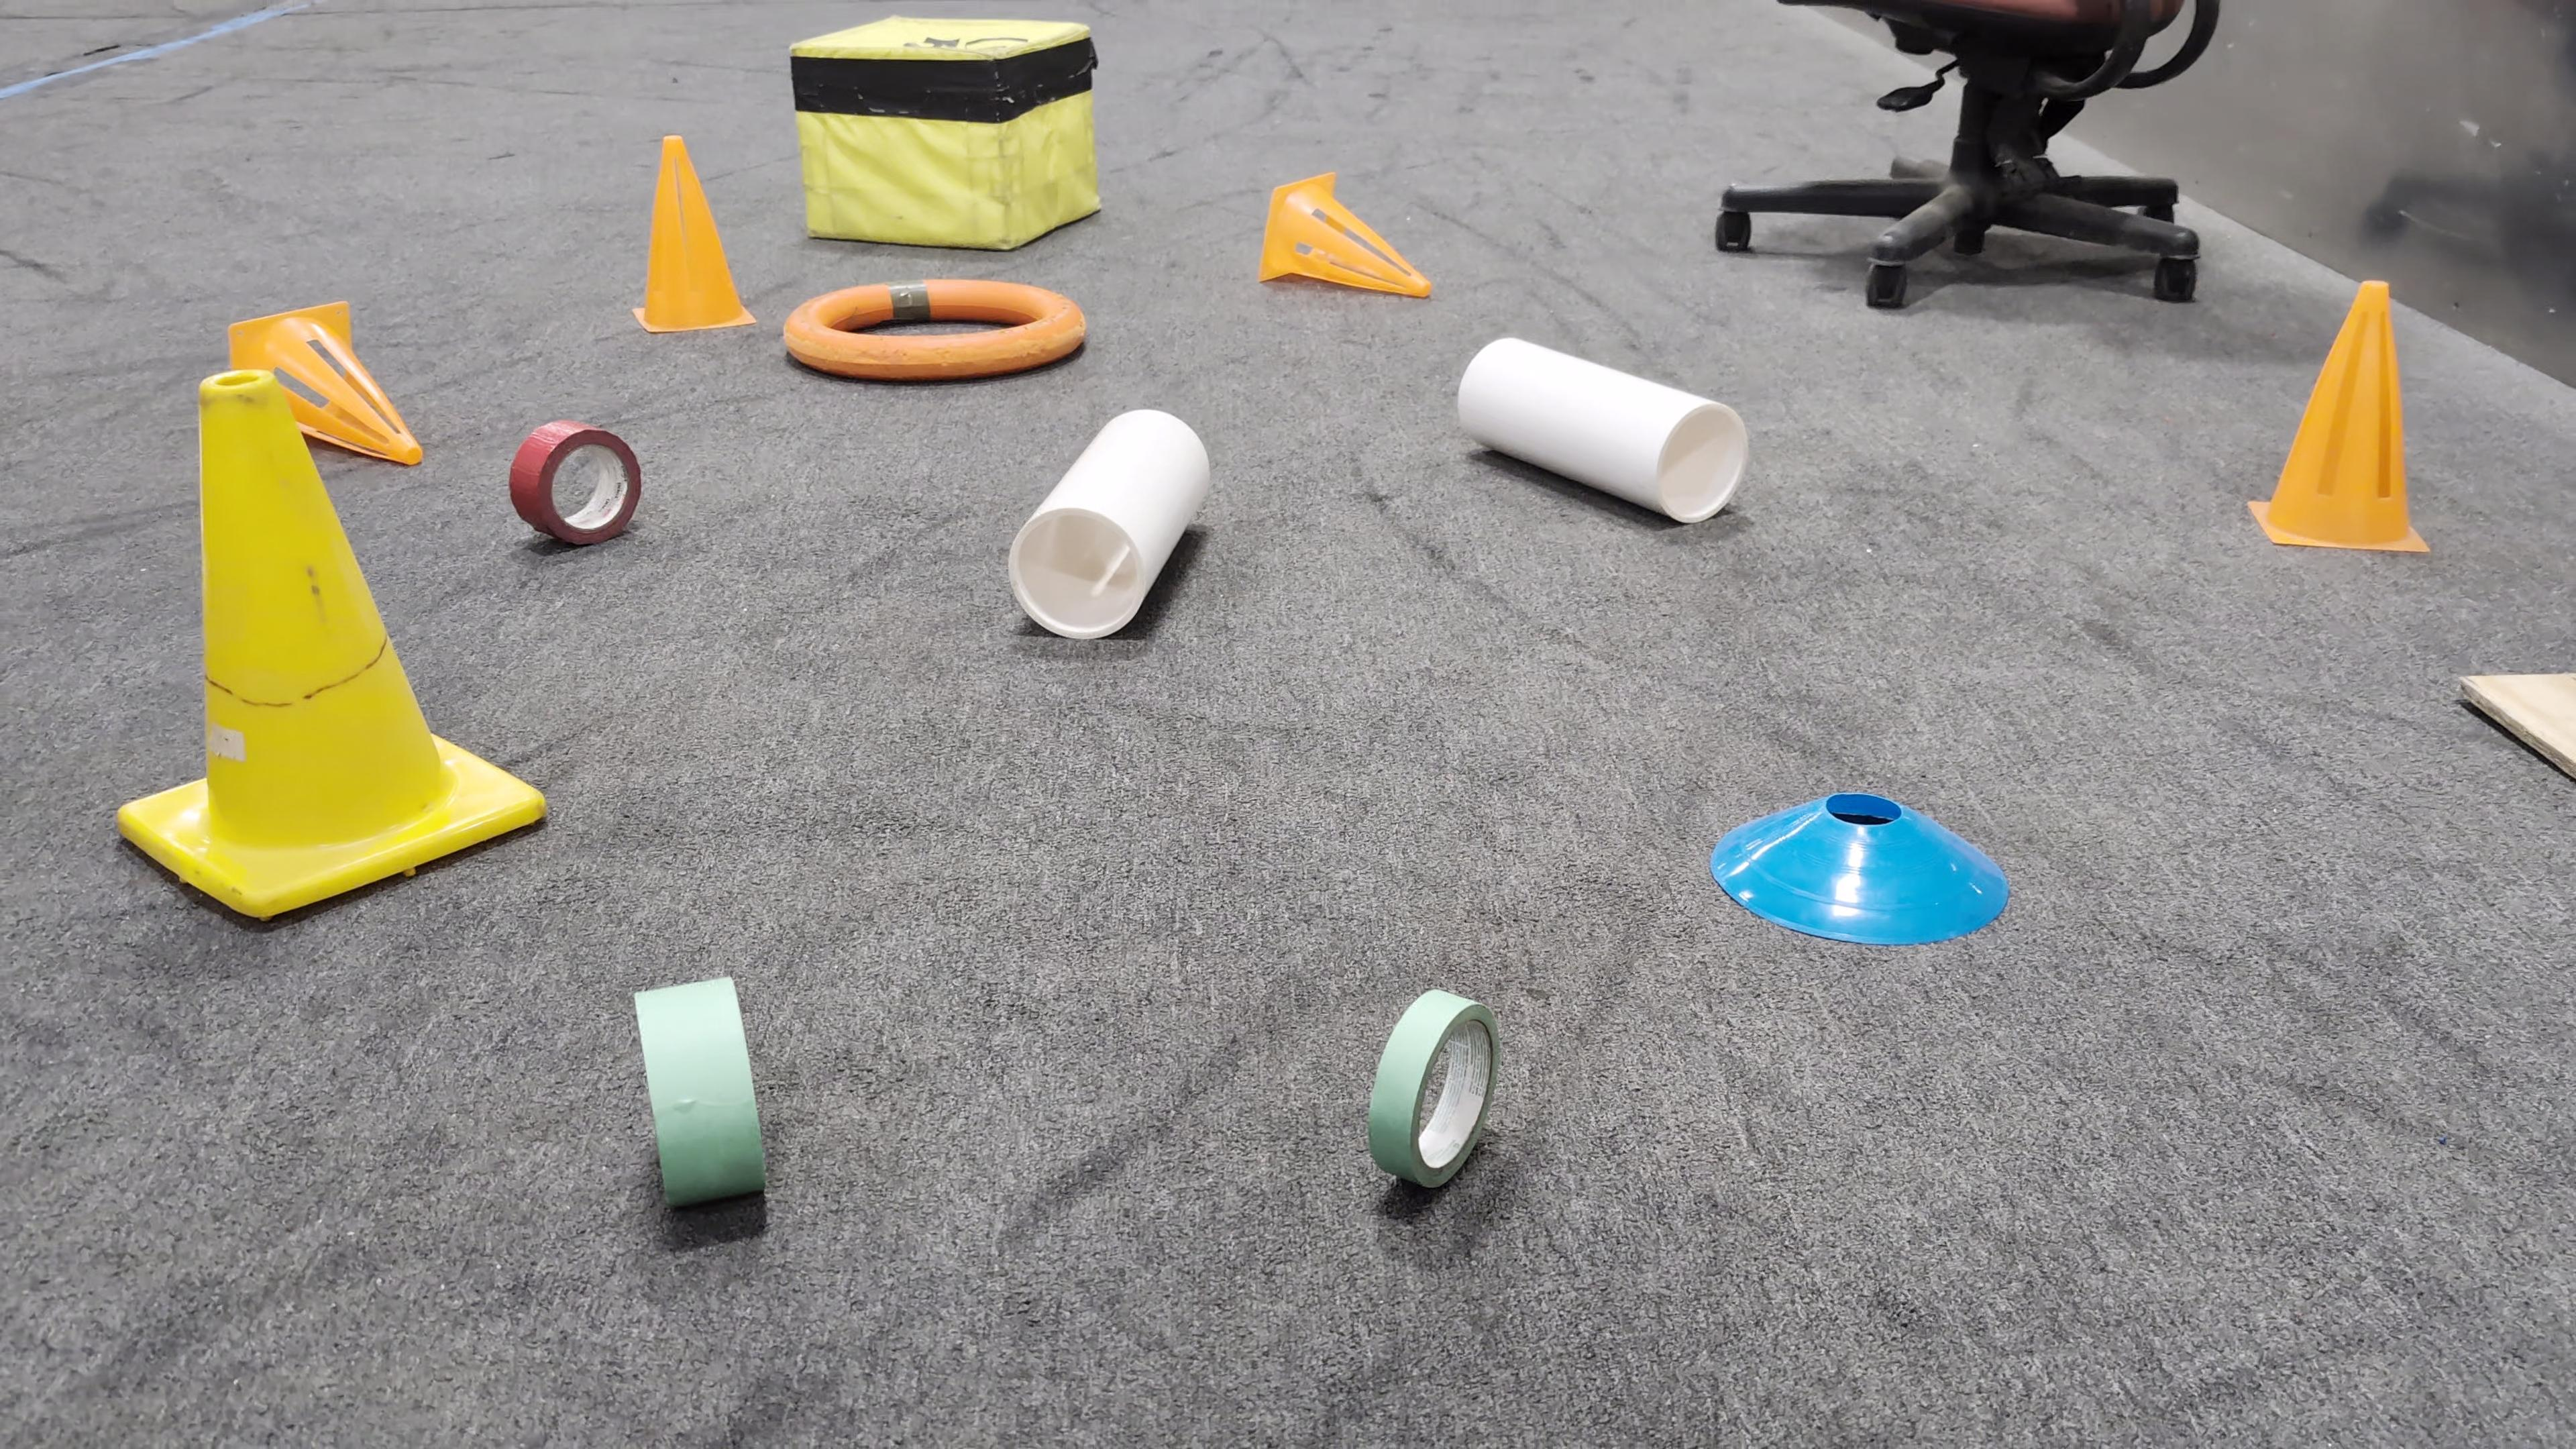coral: (1454, 333, 1748, 524), (1007, 405, 1210, 639)
